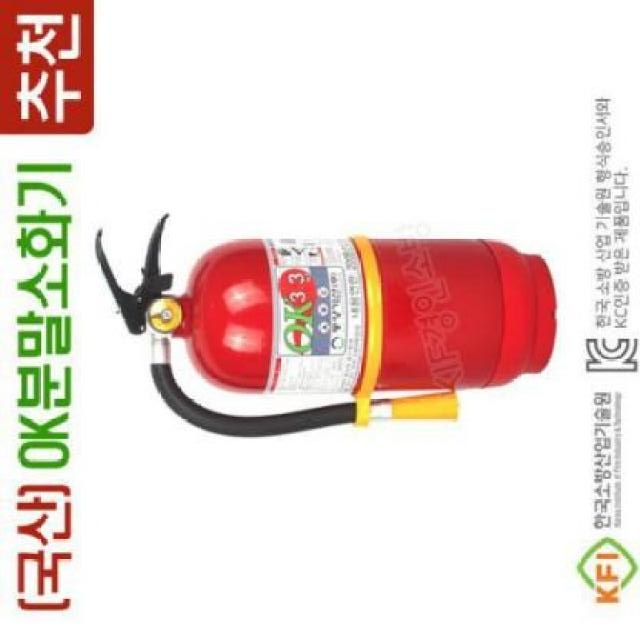fire extinguisher: (93, 212, 558, 439)
